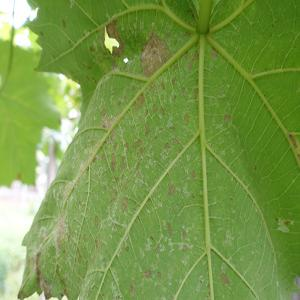Folha: (17, 0, 299, 298)
Fungo: (71, 68, 212, 264), (50, 184, 80, 238), (140, 29, 172, 79), (103, 19, 125, 58), (29, 264, 54, 296), (102, 108, 127, 140), (30, 226, 52, 252), (179, 217, 196, 245), (183, 44, 202, 68), (108, 267, 121, 299), (132, 87, 148, 111), (274, 214, 294, 233), (110, 151, 126, 174), (177, 246, 191, 264), (159, 239, 172, 255), (142, 238, 155, 254), (288, 133, 298, 149), (220, 272, 230, 288), (210, 42, 218, 62), (120, 196, 128, 213), (167, 184, 175, 196), (222, 113, 232, 122), (166, 222, 172, 236), (144, 268, 152, 278), (184, 113, 190, 123), (94, 214, 98, 227), (190, 169, 195, 179), (125, 245, 128, 251)
